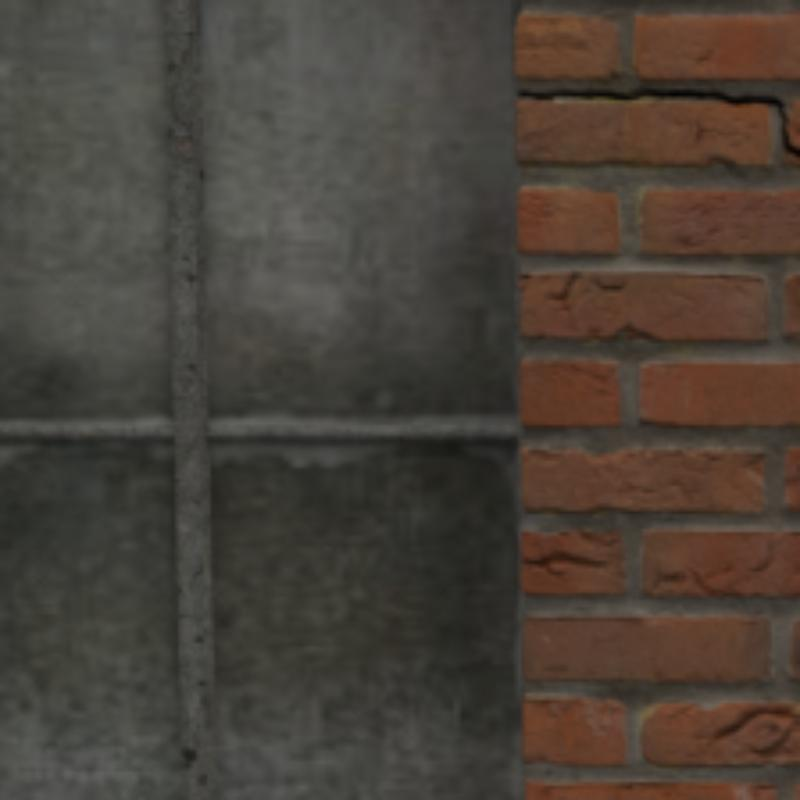pothole: (521, 89, 786, 143)
